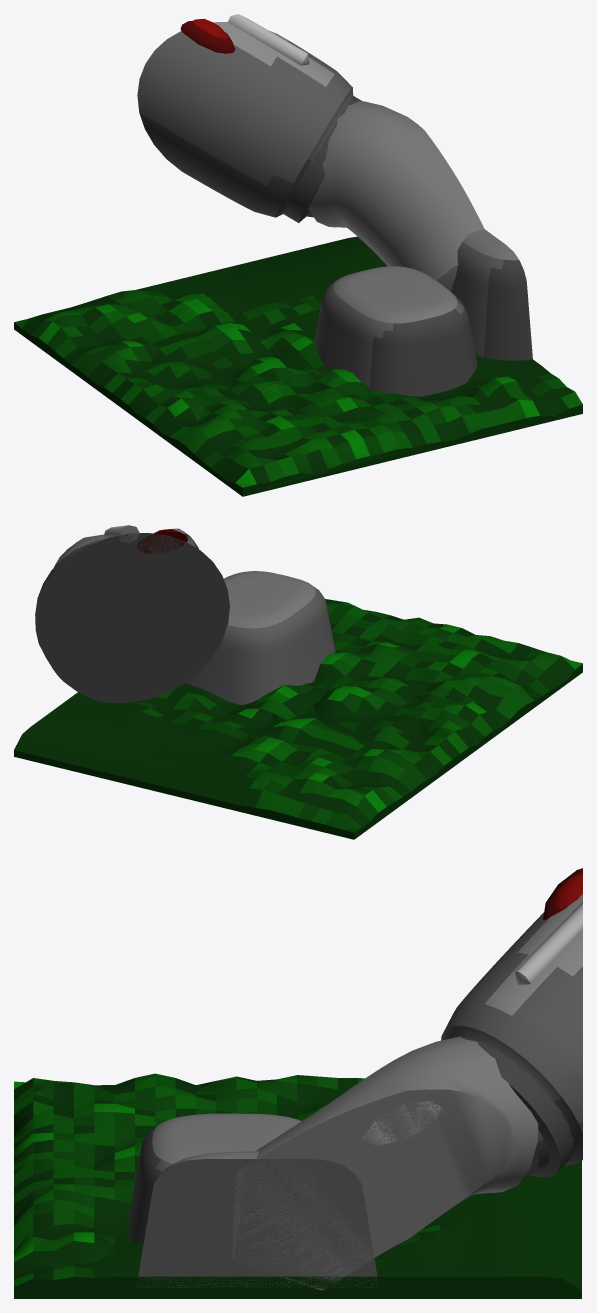
The model's file is field_gun_breech.glb.
3 renders of one model, top to bottom at view 1: azimuth 30°, elevation 25°; view 2: azimuth 150°, elevation 25°; view 3: azimuth 270°, elevation 25°, orthographic. The views are drawn at different scales.
Visible parts, largest first — view 1: foliage, barrel, neck, foot, house, neck_collar, barrel_ridge, red_light8; view 2: foliage, barrel, foot, red_light8, barrel_ridge; view 3: foliage, neck, house, barrel, foot, neck_collar, barrel_ridge, neck_edge, red_light_core8.
Part boxes in pixels (x1,y1,x2,y2): foliage: [14, 236, 582, 496]; barrel: [137, 22, 353, 217]; neck: [308, 100, 484, 291]; foot: [314, 266, 477, 396]; house: [451, 229, 532, 360]; neck_collar: [283, 96, 361, 222]; barrel_ridge: [228, 14, 309, 65]; red_light8: [180, 21, 235, 53]; foliage: [14, 599, 582, 839]; barrel: [35, 533, 229, 702]; foot: [185, 571, 335, 704]; red_light8: [137, 531, 188, 553]; barrel_ridge: [103, 525, 139, 542]; foliage: [14, 1073, 581, 1298]; neck: [232, 1036, 538, 1290]; house: [137, 1151, 378, 1287]; barrel: [441, 894, 582, 1174]; foot: [128, 1113, 301, 1243]; neck_collar: [454, 1036, 574, 1177]; barrel_ridge: [514, 902, 582, 985]; neck_edge: [363, 1101, 443, 1145]; red_light_core8: [554, 873, 582, 909].
Size of the model in its own units: 24 by 17.88 by 28.
